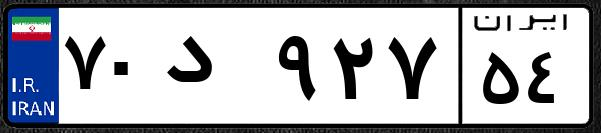0: (110, 28, 158, 98)
2: (330, 28, 385, 110)
4: (525, 38, 570, 115)
5: (475, 38, 525, 113)
7: (385, 28, 445, 110), (57, 26, 110, 100)
9: (270, 28, 330, 110)
د: (158, 20, 270, 120)
